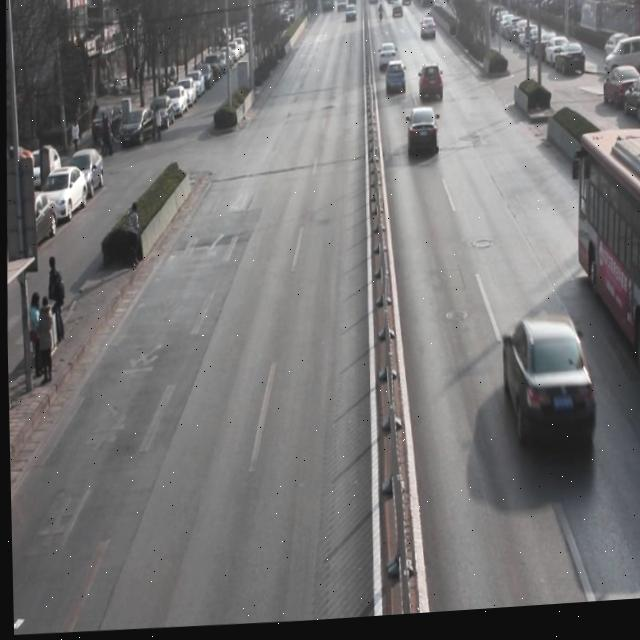car: (499, 318, 598, 463), (405, 111, 440, 162), (417, 67, 443, 109), (384, 63, 408, 100)
van: (572, 133, 640, 394)
